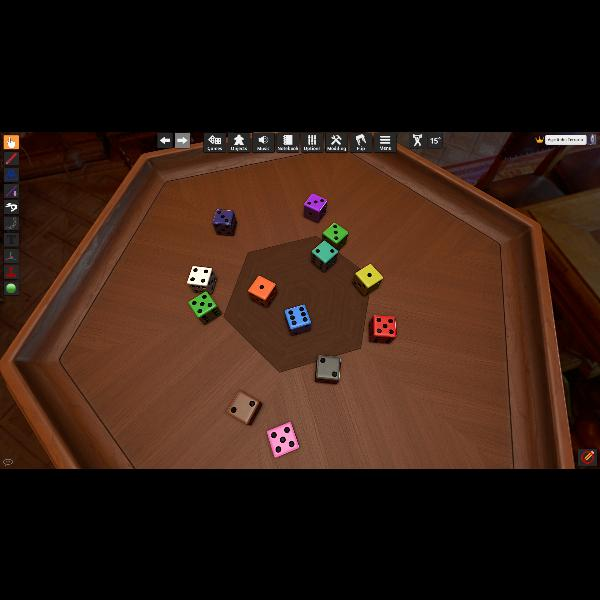d6: (226, 390, 262, 424), (267, 419, 299, 456), (189, 290, 221, 324), (353, 262, 383, 296), (248, 274, 276, 308), (186, 265, 216, 295), (312, 240, 338, 273), (284, 303, 310, 334), (322, 222, 348, 252), (303, 193, 327, 224), (368, 314, 394, 342), (314, 354, 340, 382), (212, 209, 236, 237)
